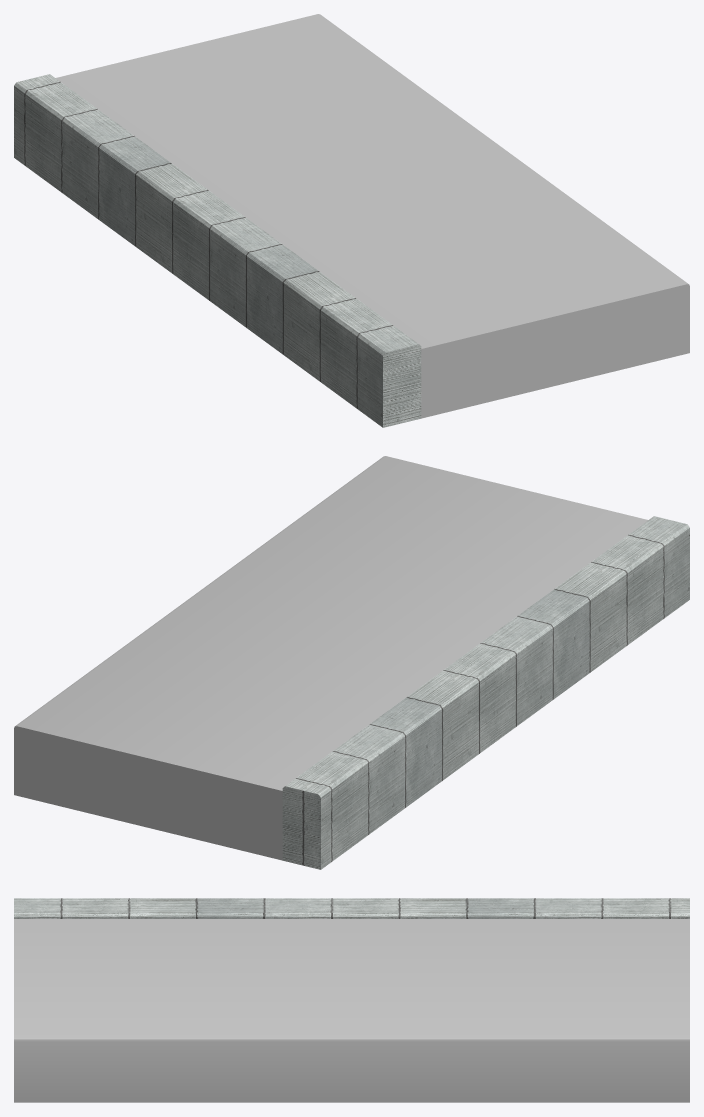
Rendered from AlleywayFloorB.fbx.
3 views of the same model, one above another, from view 1: azimuth 30°, elevation 25°; view 2: azimuth 150°, elevation 25°; view 3: azimuth 270°, elevation 25° (orthographic). The views are drawn at different scales.
Parts seen in each view (by area): view 1: AlleywayFloorB; view 2: AlleywayFloorB; view 3: AlleywayFloorB.
Part boxes in pixels (bbox=[...]): AlleywayFloorB: bbox=[14, 14, 689, 427]; AlleywayFloorB: bbox=[14, 456, 689, 869]; AlleywayFloorB: bbox=[14, 898, 689, 1102].
Size of the model in its own units: 1200 by 280 by 2500.
